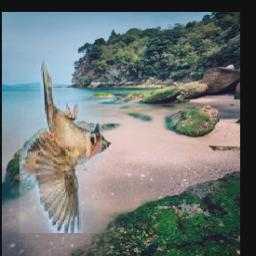Sparrow: (20, 62, 101, 234)
